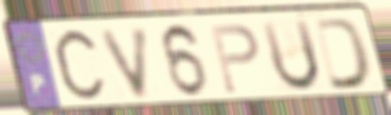6: (160, 21, 214, 102)
C: (50, 25, 109, 108)
D: (311, 15, 374, 92)
P: (207, 23, 261, 96)
U: (257, 16, 323, 95)
V: (97, 24, 152, 102)
